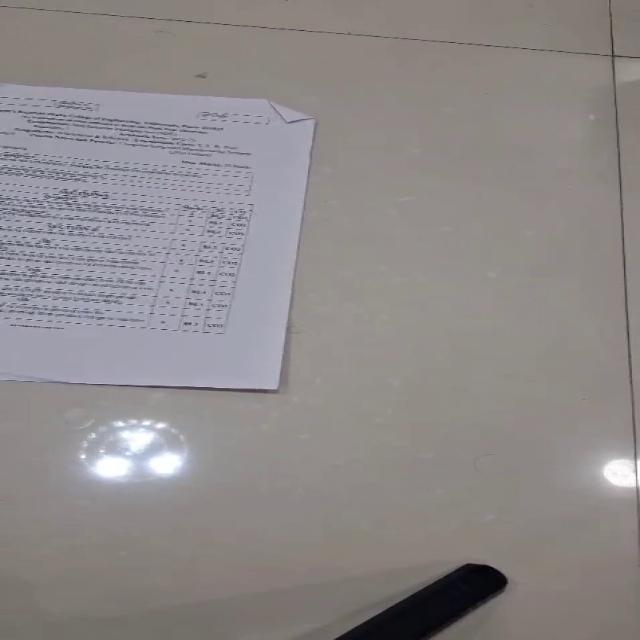paper: (0, 81, 316, 391)
